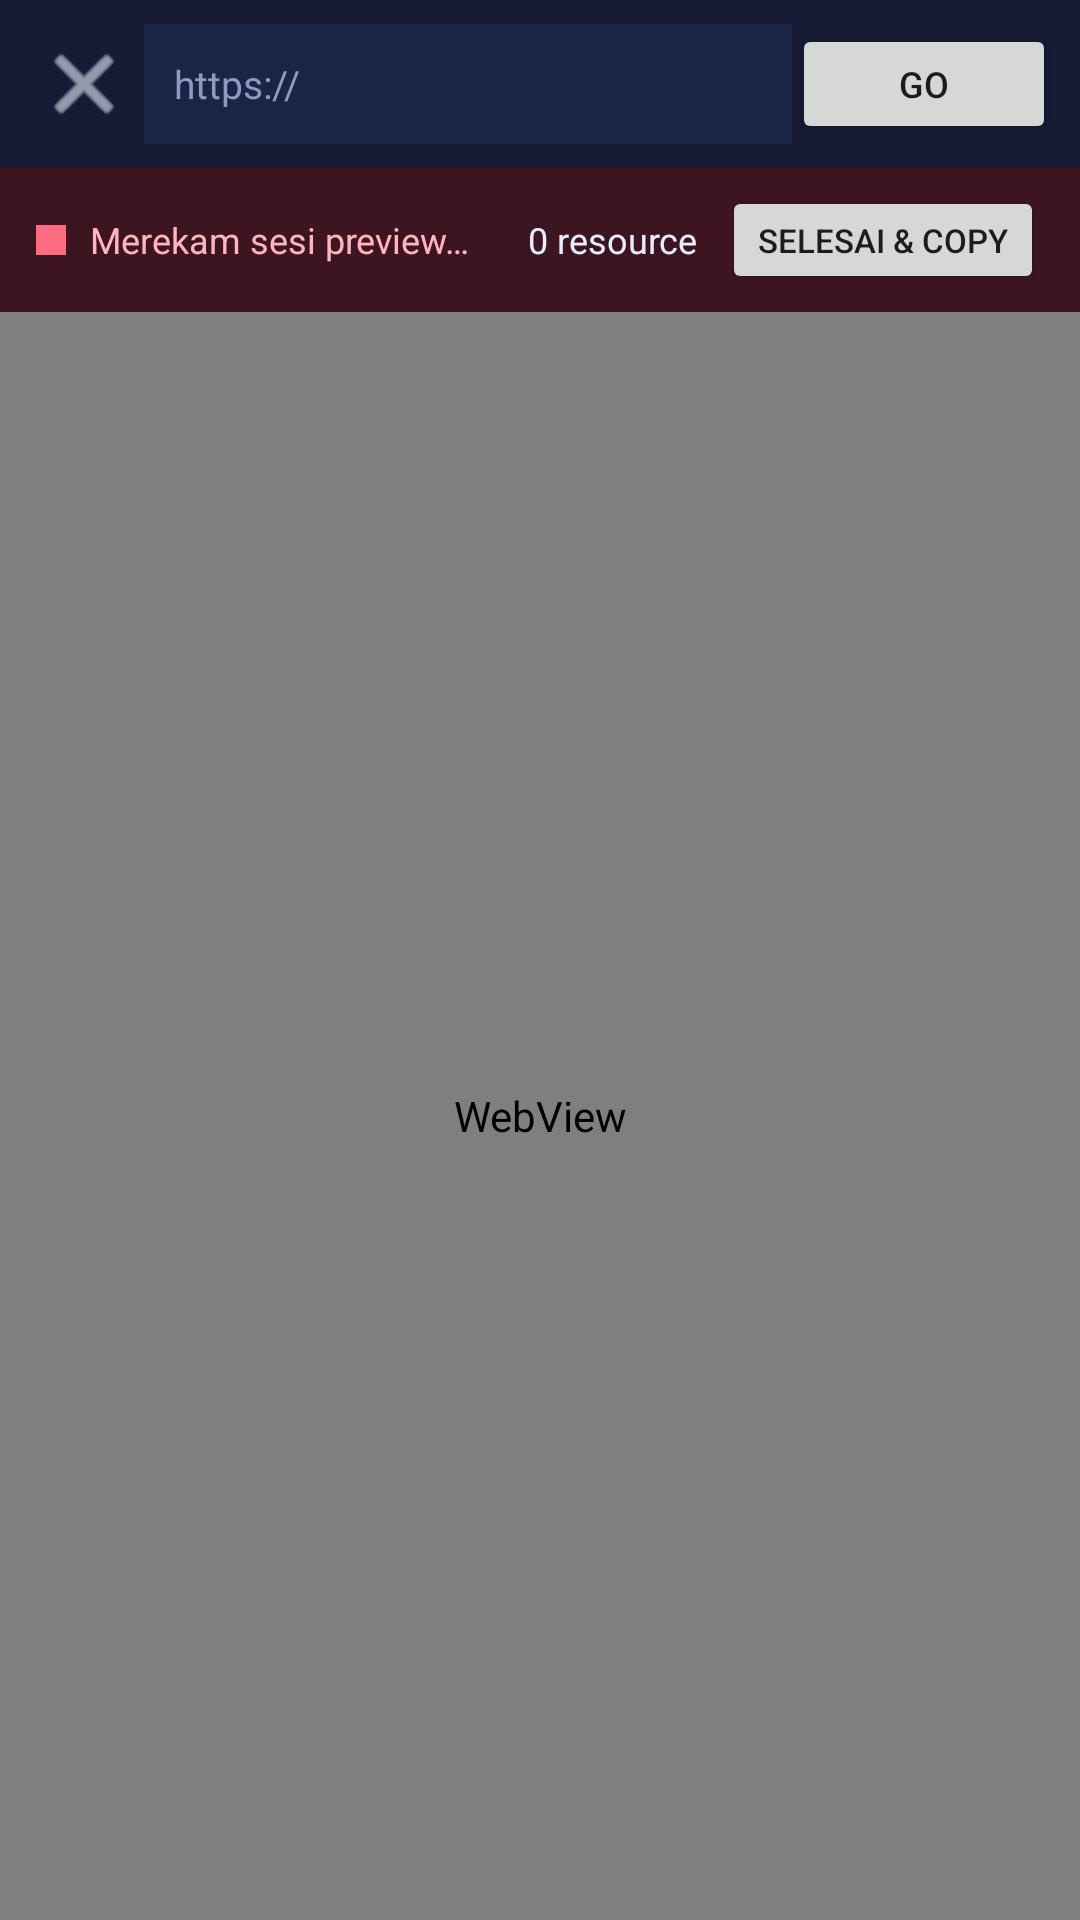

Named icons in this screenshot (1080*1920) and their centers, (x=x, y=y):
Kembali: (x=84, y=84)
